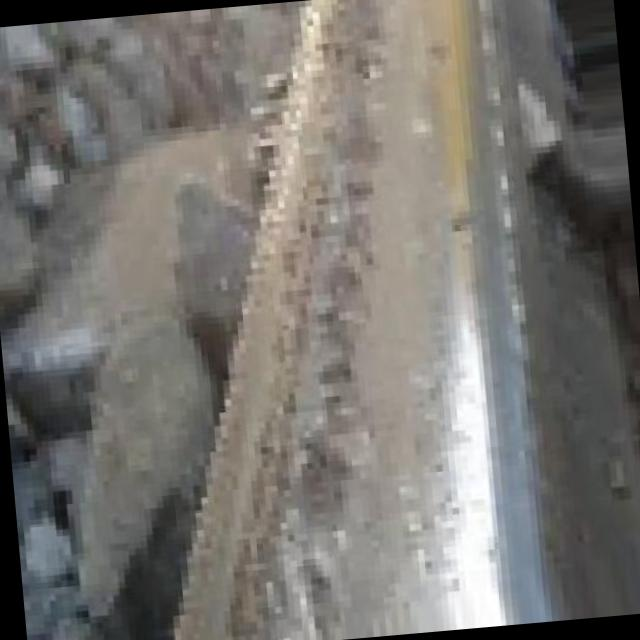defective: (106, 0, 612, 640)
